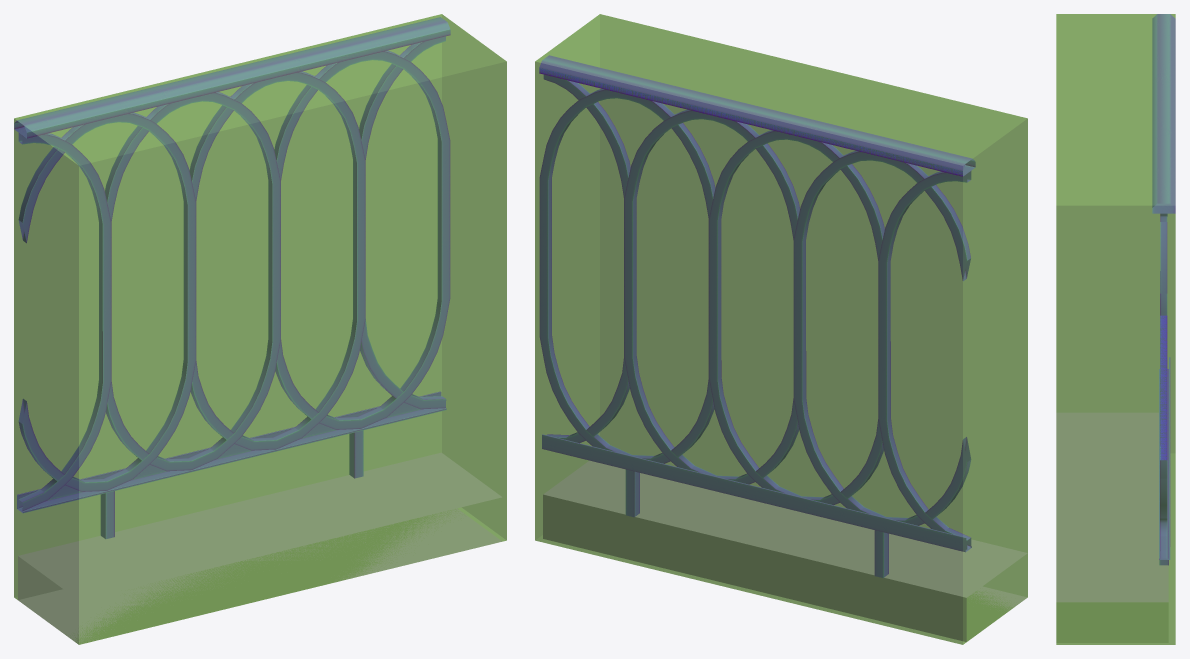
File: F_md_Balcony_S_mid_03.fbx
3 renders of one model, left to right at view 1: azimuth 30°, elevation 25°; view 2: azimuth 150°, elevation 25°; view 3: azimuth 270°, elevation 25°, orthographic. The views are drawn at different scales.
Visible parts, largest first — view 1: F_md_Balcony_S_mid_03_col_01, F_md_Balcony_S_mid_03_LOD0; view 2: F_md_Balcony_S_mid_03_col_01, F_md_Balcony_S_mid_03_LOD0; view 3: F_md_Balcony_S_mid_03_col_01, F_md_Balcony_S_mid_03_LOD0.
Boxes of the visible parts, x1,y1,x2,y2 form: F_md_Balcony_S_mid_03_col_01: [14, 14, 506, 644]; F_md_Balcony_S_mid_03_LOD0: [14, 17, 501, 644]; F_md_Balcony_S_mid_03_col_01: [535, 14, 1027, 644]; F_md_Balcony_S_mid_03_LOD0: [539, 55, 1027, 641]; F_md_Balcony_S_mid_03_col_01: [1056, 14, 1175, 644]; F_md_Balcony_S_mid_03_LOD0: [1056, 14, 1175, 642].
Size of what is drawn, in the model's own units: 101 by 108 by 26.54.
